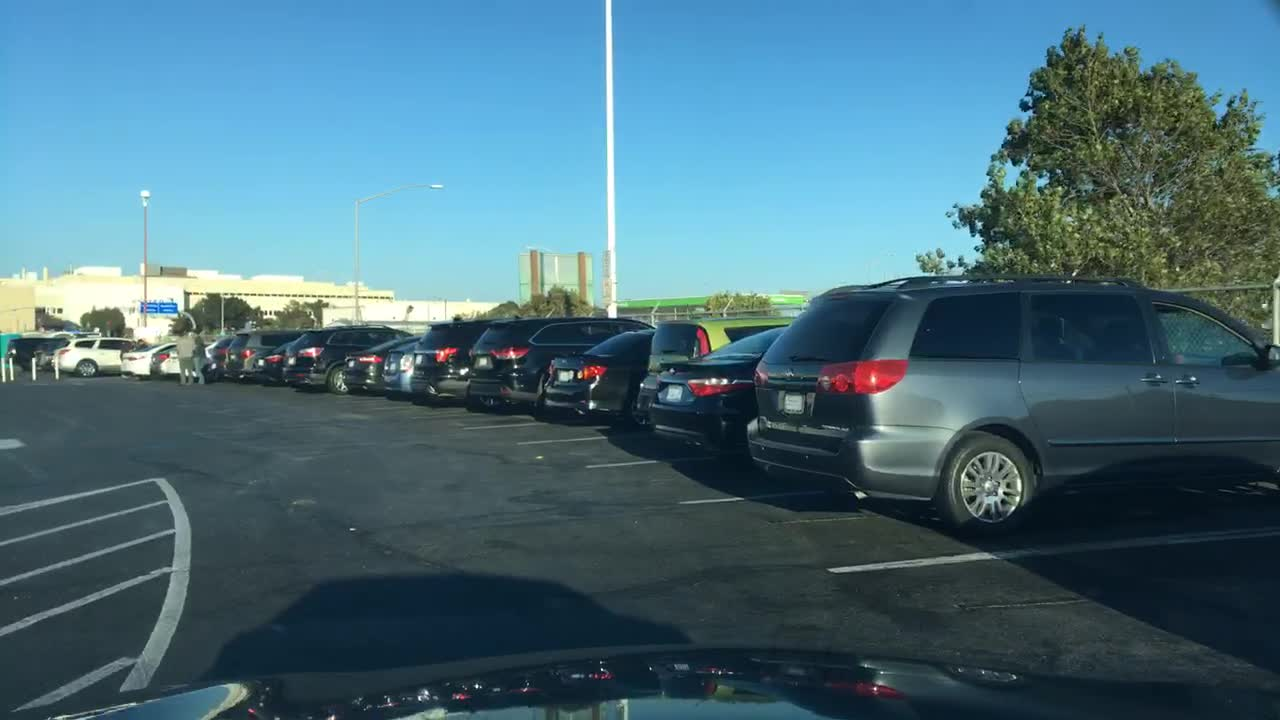car: (745, 275, 1275, 544), (626, 326, 898, 451), (639, 319, 841, 418), (469, 319, 672, 414), (538, 328, 709, 418), (386, 319, 527, 399), (267, 324, 419, 386), (336, 331, 485, 392), (234, 326, 320, 377), (54, 335, 140, 374), (116, 341, 184, 375), (28, 337, 93, 370), (199, 337, 234, 377), (10, 333, 56, 363)
